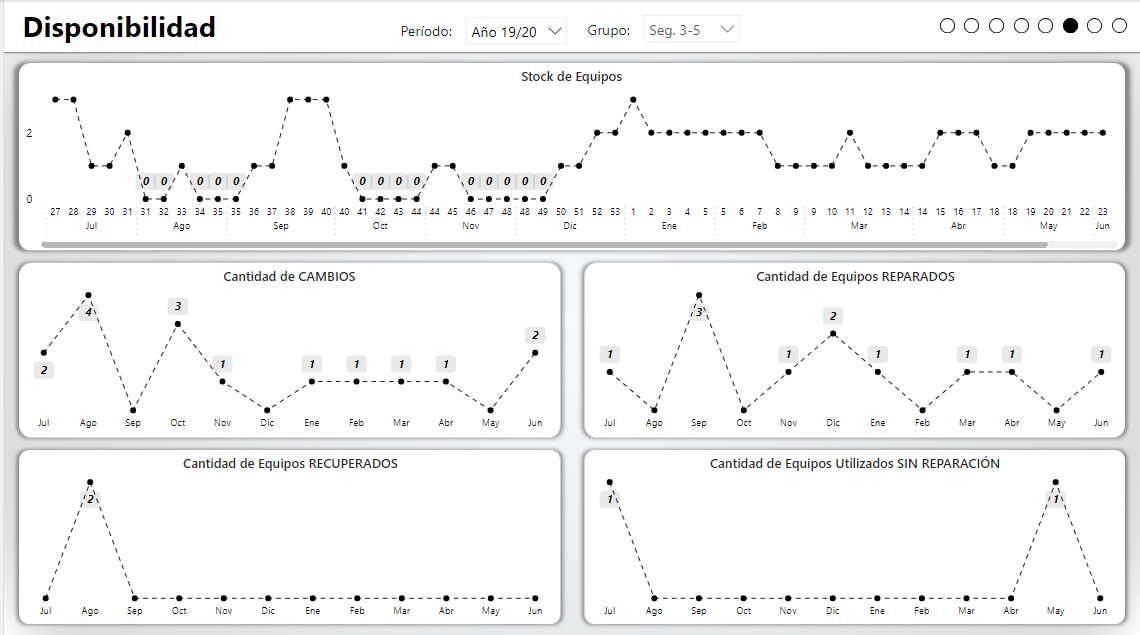

This screenshot's page, from the dashboard's own definition file:
{"tool":"powerbi","page":{"name":"📅 Disponibilidad","canvas":[1280,720],"ordinal":5},"visuals":[{"type":"textbox","box":[15.5,6.5,261.2,47.8],"z":0},{"type":"lineChart","title":"Stock de Equipos","fields":{"Y":["Medidas._D Cuenta total sin considerar No reparados"],"Category":["vCalendario.AnioFiscal Jerarquía.NombreMesCorto","vCalendario.NumSemanaAnio"]},"box":[15.1,70.2,1249.7,214.7],"z":1000},{"type":"slicer","fields":{"Values":["vCalendario.AnioFiscal"]},"box":[510.3,8.8,134.5,47.8],"z":2000,"group":"g1"},{"type":"lineChart","title":"Cantidad de Equipos REPARADOS","fields":{"Category":["vCalendario.AnioFiscal Jerarquía.NombreMesCorto","vCalendario.NumSemanaAnio"],"Y":["Medidas._D Recuento de reparaciones EN SERIO No recuperados"]},"box":[652.4,295.2,614.1,199.4],"z":2000},{"type":"lineChart","title":"Cantidad de Equipos Utilizados SIN REPARACIÓN","fields":{"Category":["vCalendario.AnioFiscal Jerarquía.NombreMesCorto","vCalendario.NumSemanaAnio"],"Y":["Medidas._D Recuento de NO reparados"]},"box":[652.4,505.9,613,200.6],"z":3000},{"type":"lineChart","title":"Cantidad de Equipos RECUPERADOS","fields":{"Category":["vCalendario.AnioFiscal Jerarquía.NombreMesCorto","vCalendario.NumSemanaAnio"],"Y":["Medidas._D Recuento de Recuperados"]},"box":[16.9,505.9,611.8,200.6],"z":4000},{"type":"textbox","box":[441.3,23.8,80.2,32.3],"z":5000,"group":"g1"},{"type":"lineChart","title":"Cantidad de CAMBIOS","fields":{"Category":["vCalendario.AnioFiscal Jerarquía.NombreMesCorto","vCalendario.NumSemanaAnio"],"Y":["Medidas._D Recuento de cambios"]},"box":[14.6,295.2,614.1,199.4],"z":5000},{"type":"group","id":"g1","title":"Grupo 1","box":[441.3,7,397.4,49.7],"z":6000},{"type":"actionButton","box":[1054.5,20,17,17.3],"z":7000},{"type":"actionButton","box":[1248.2,20,16.9,16.9],"z":8000},{"type":"actionButton","box":[1082.2,20,17,17.3],"z":9000},{"type":"actionButton","box":[1109.9,20,17,17.3],"z":10000},{"type":"actionButton","box":[1137.6,20,17,17.3],"z":11000},{"type":"actionButton","box":[1165.3,20,17,17.3],"z":12000},{"type":"actionButton","box":[1193,20,17,17.3],"z":13000},{"type":"actionButton","box":[1220.7,20,16.9,17.3],"z":14000},{"type":"slicer","fields":{"Values":["vSegmento.Grupo"]},"box":[710.7,7,128,42.7],"z":15000,"group":"g1"},{"type":"textbox","box":[652,22.5,68.5,32.3],"z":19000,"group":"g1"}]}

Visuals, with their boxes in screenshot pixels (x1, y1, x2, y2), scaled from the page's 1280x720 canvas onto the 1140x635 screenshot:
textbox: (14, 6, 246, 48)
"Stock de Equipos" lineChart: (13, 62, 1126, 251)
slicer - vCalendario.AnioFiscal: (454, 8, 574, 50)
"Cantidad de Equipos REPARADOS" lineChart: (581, 260, 1128, 436)
"Cantidad de Equipos Utilizados SIN REPARACIÓN" lineChart: (581, 446, 1127, 623)
"Cantidad de Equipos RECUPERADOS" lineChart: (15, 446, 560, 623)
textbox: (393, 21, 464, 49)
"Cantidad de CAMBIOS" lineChart: (13, 260, 560, 436)
"Grupo 1" group: (393, 6, 747, 50)
actionButton: (939, 18, 954, 33)
actionButton: (1112, 18, 1127, 33)
actionButton: (964, 18, 979, 33)
actionButton: (989, 18, 1004, 33)
actionButton: (1013, 18, 1028, 33)
actionButton: (1038, 18, 1053, 33)
actionButton: (1063, 18, 1078, 33)
actionButton: (1087, 18, 1102, 33)
slicer - vSegmento.Grupo: (633, 6, 747, 44)
textbox: (581, 20, 642, 48)
